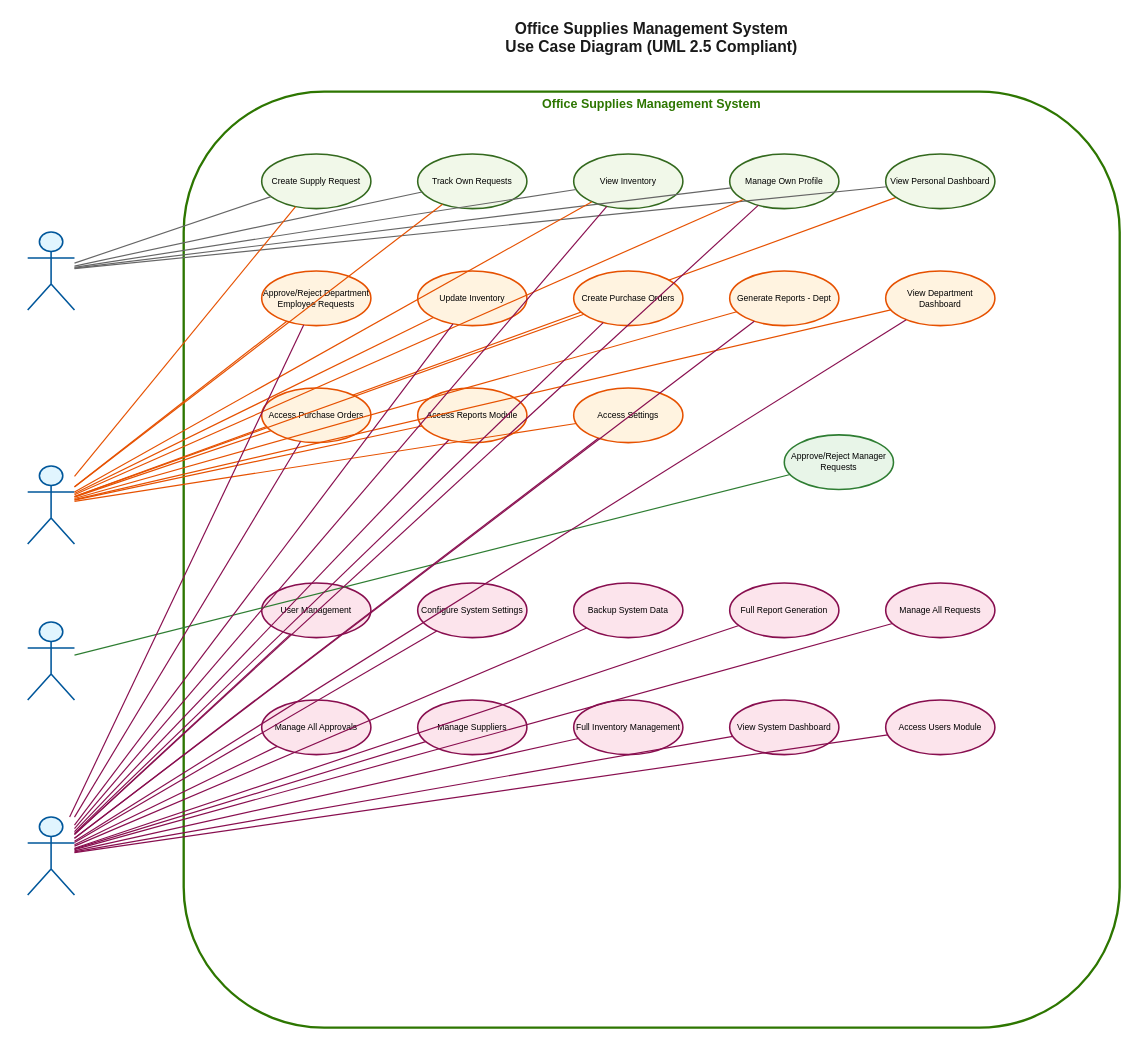
Some shapes in this 1134 by 1042 pixel diagram are drawn without their labels. The shapes that lost their labels are listed below. From the top down, each one's centre as x and y in pixels, then its label:
At point (51, 270): "Employee".
At point (51, 504): "Manager".
At point (51, 660): "General Manager".
At point (51, 855): "Admin".
